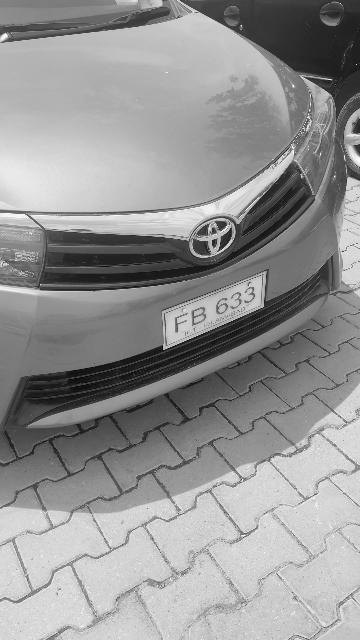Number: (173, 281, 257, 337)
